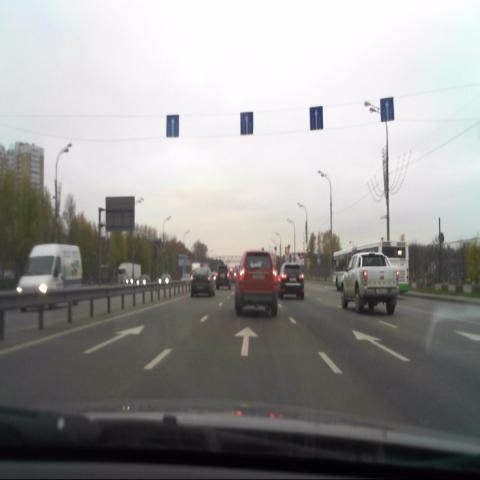5_15_2: (310, 105, 324, 132), (380, 97, 394, 123), (166, 115, 180, 138), (240, 112, 253, 135)
